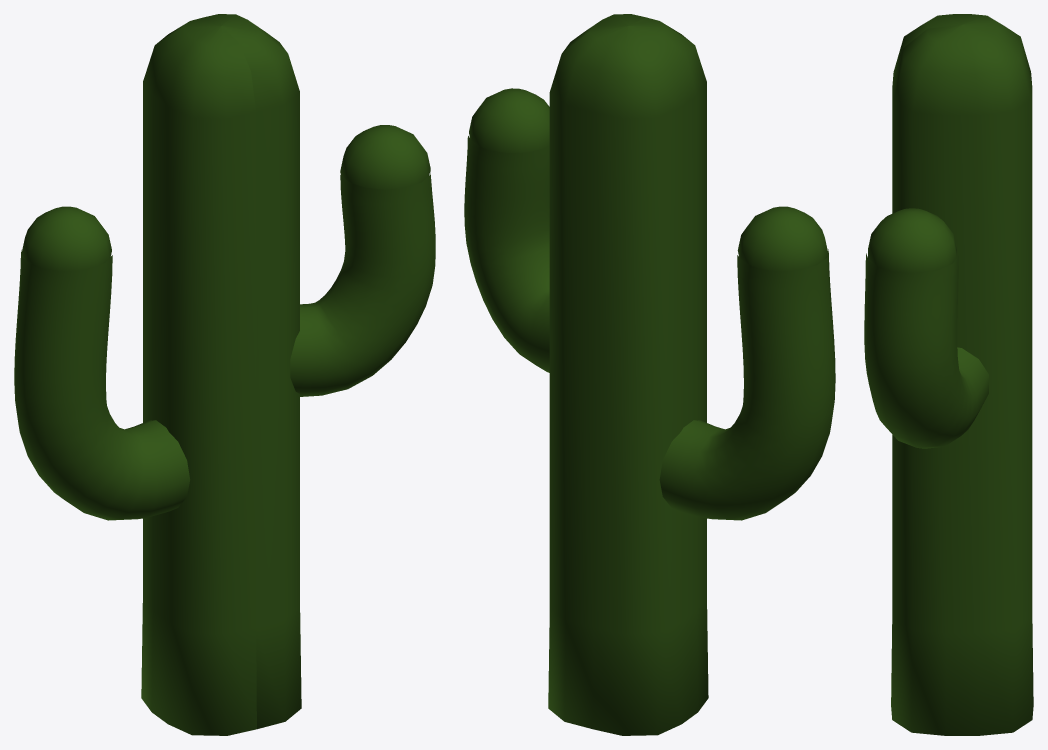
File: cactus_tall.glb
The picture shows the model from 3 angles, left to right: view 1: azimuth 30°, elevation 25°; view 2: azimuth 150°, elevation 25°; view 3: azimuth 270°, elevation 25°; orthographic projection.
Visible parts, largest first — view 1: cactus_tall; view 2: cactus_tall; view 3: cactus_tall.
Boxes of the visible parts, left/top/right/bottom form: cactus_tall: left=14, top=14, right=435, bottom=735; cactus_tall: left=464, top=14, right=835, bottom=735; cactus_tall: left=864, top=14, right=1033, bottom=735.
Size of the model in its own units: 2.13 by 3.6 by 0.8108.
